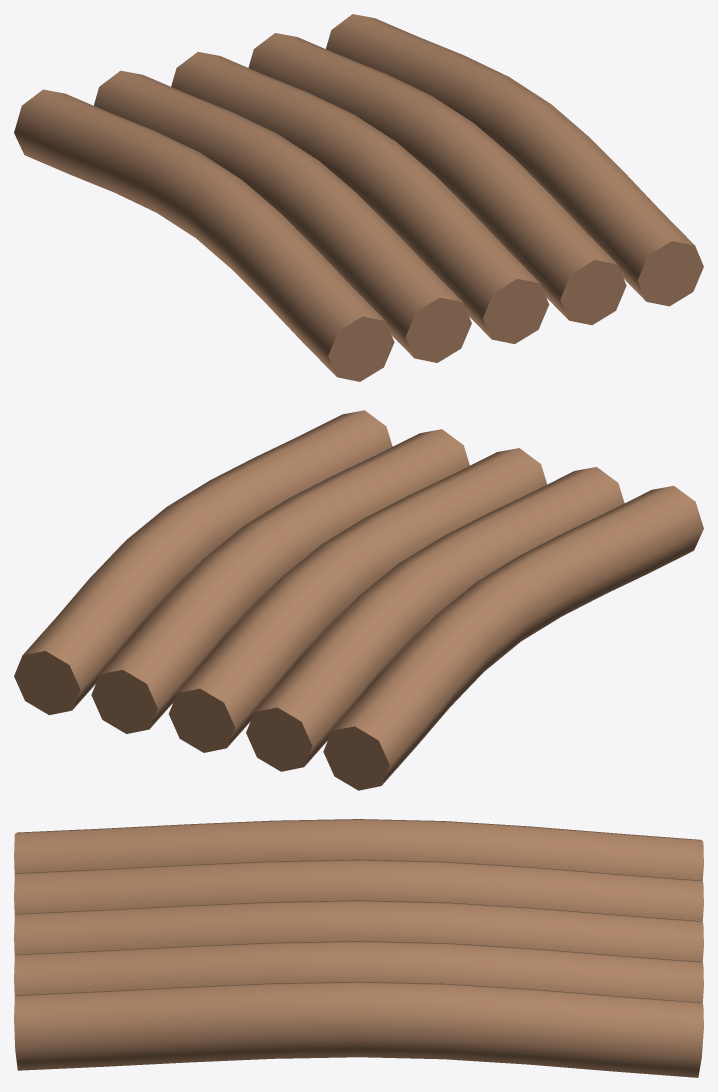
File: survival-food-and-preservation-dried-meat-strips-13181d3a__21733.glb
The picture shows the model from 3 angles, top to bottom: view 1: azimuth 30°, elevation 25°; view 2: azimuth 150°, elevation 25°; view 3: azimuth 270°, elevation 25°; orthographic projection. The views are drawn at different scales.
Visible parts, largest first — view 1: dried-meat-strips; view 2: dried-meat-strips; view 3: dried-meat-strips.
Part boxes in pixels (<box>): dried-meat-strips: <box>14,14,703,381</box>; dried-meat-strips: <box>14,410,703,790</box>; dried-meat-strips: <box>14,819,703,1077</box>.
Size of the model in its own units: 0.121 by 0.028 by 0.172.
